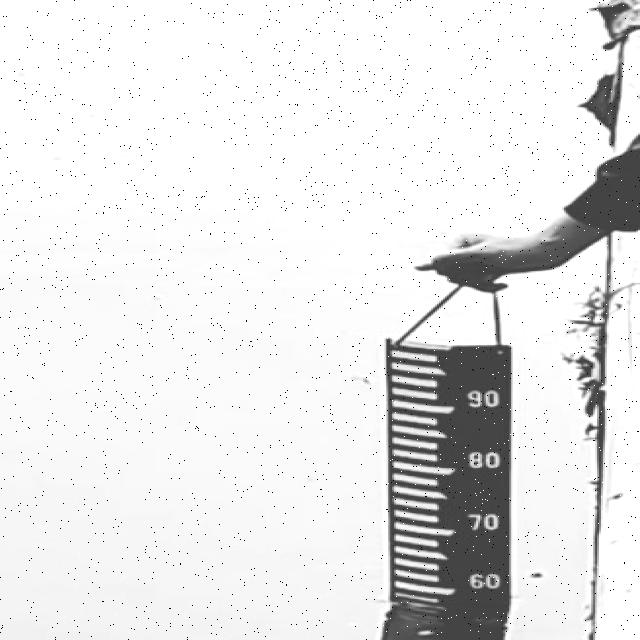60: (467, 570, 504, 592)
70: (466, 509, 505, 534)
80: (466, 448, 504, 471)
90: (465, 386, 502, 411)
staff: (383, 338, 515, 606)
